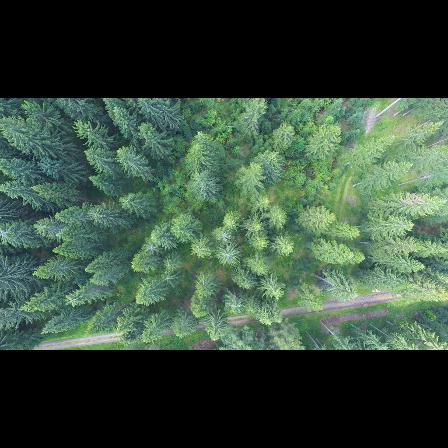Sick: (216, 248, 240, 262), (141, 241, 160, 255), (160, 272, 175, 286), (217, 228, 231, 242)
